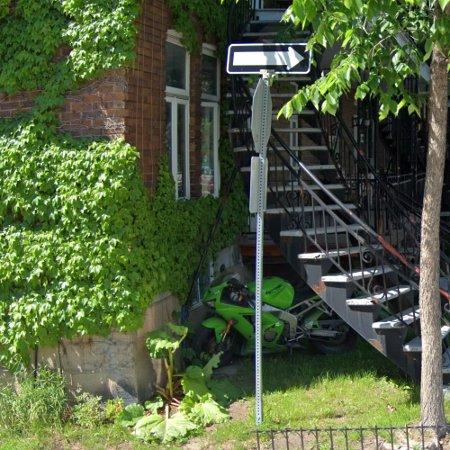stairs: (268, 109, 422, 379), (232, 77, 253, 176)
